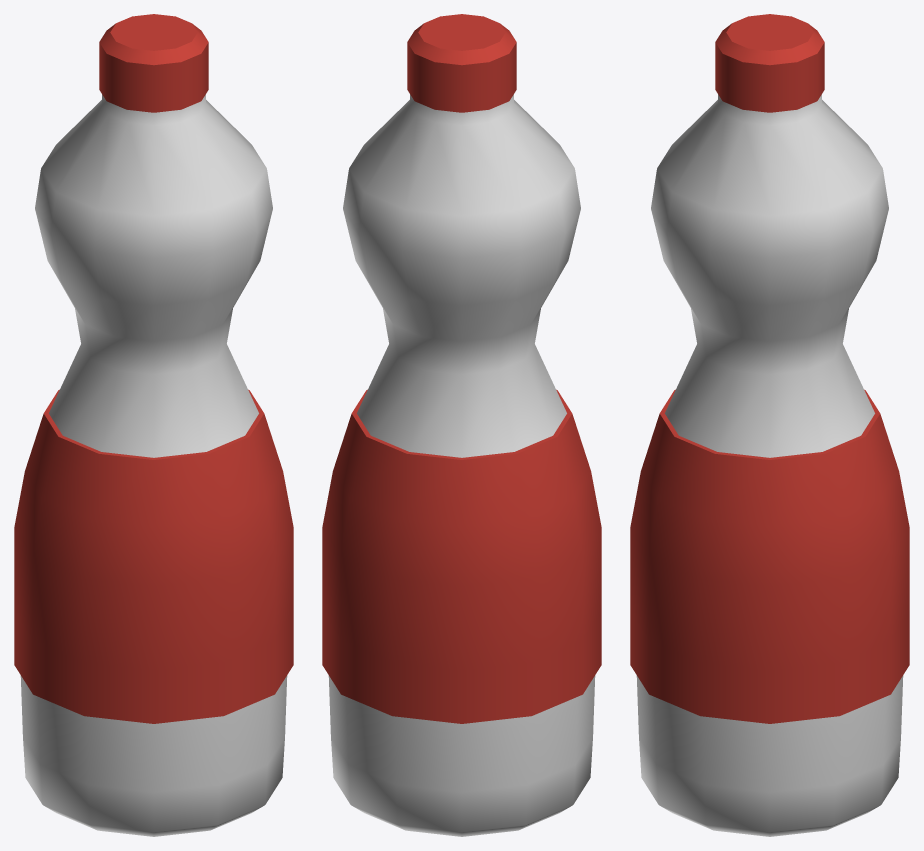
The model's file is SodaBottle_01.fbx.
3 renders of one model, left to right at view 1: azimuth 30°, elevation 25°; view 2: azimuth 150°, elevation 25°; view 3: azimuth 270°, elevation 25°, orthographic.
Visible parts, largest first — view 1: SodaBottle_01; view 2: SodaBottle_01; view 3: SodaBottle_01.
Boxes of the visible parts, bbox=[...] form: SodaBottle_01: bbox=[14, 14, 293, 836]; SodaBottle_01: bbox=[322, 14, 601, 836]; SodaBottle_01: bbox=[630, 14, 909, 836].
Bounding box in the file's own units: 0.1195 × 0.3573 × 0.1195.
